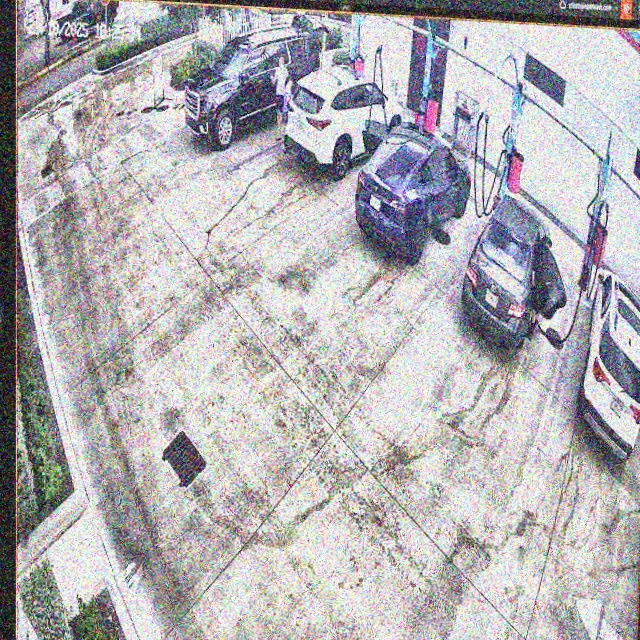Car: (463, 192, 566, 349), (358, 121, 474, 260), (284, 66, 405, 180)
